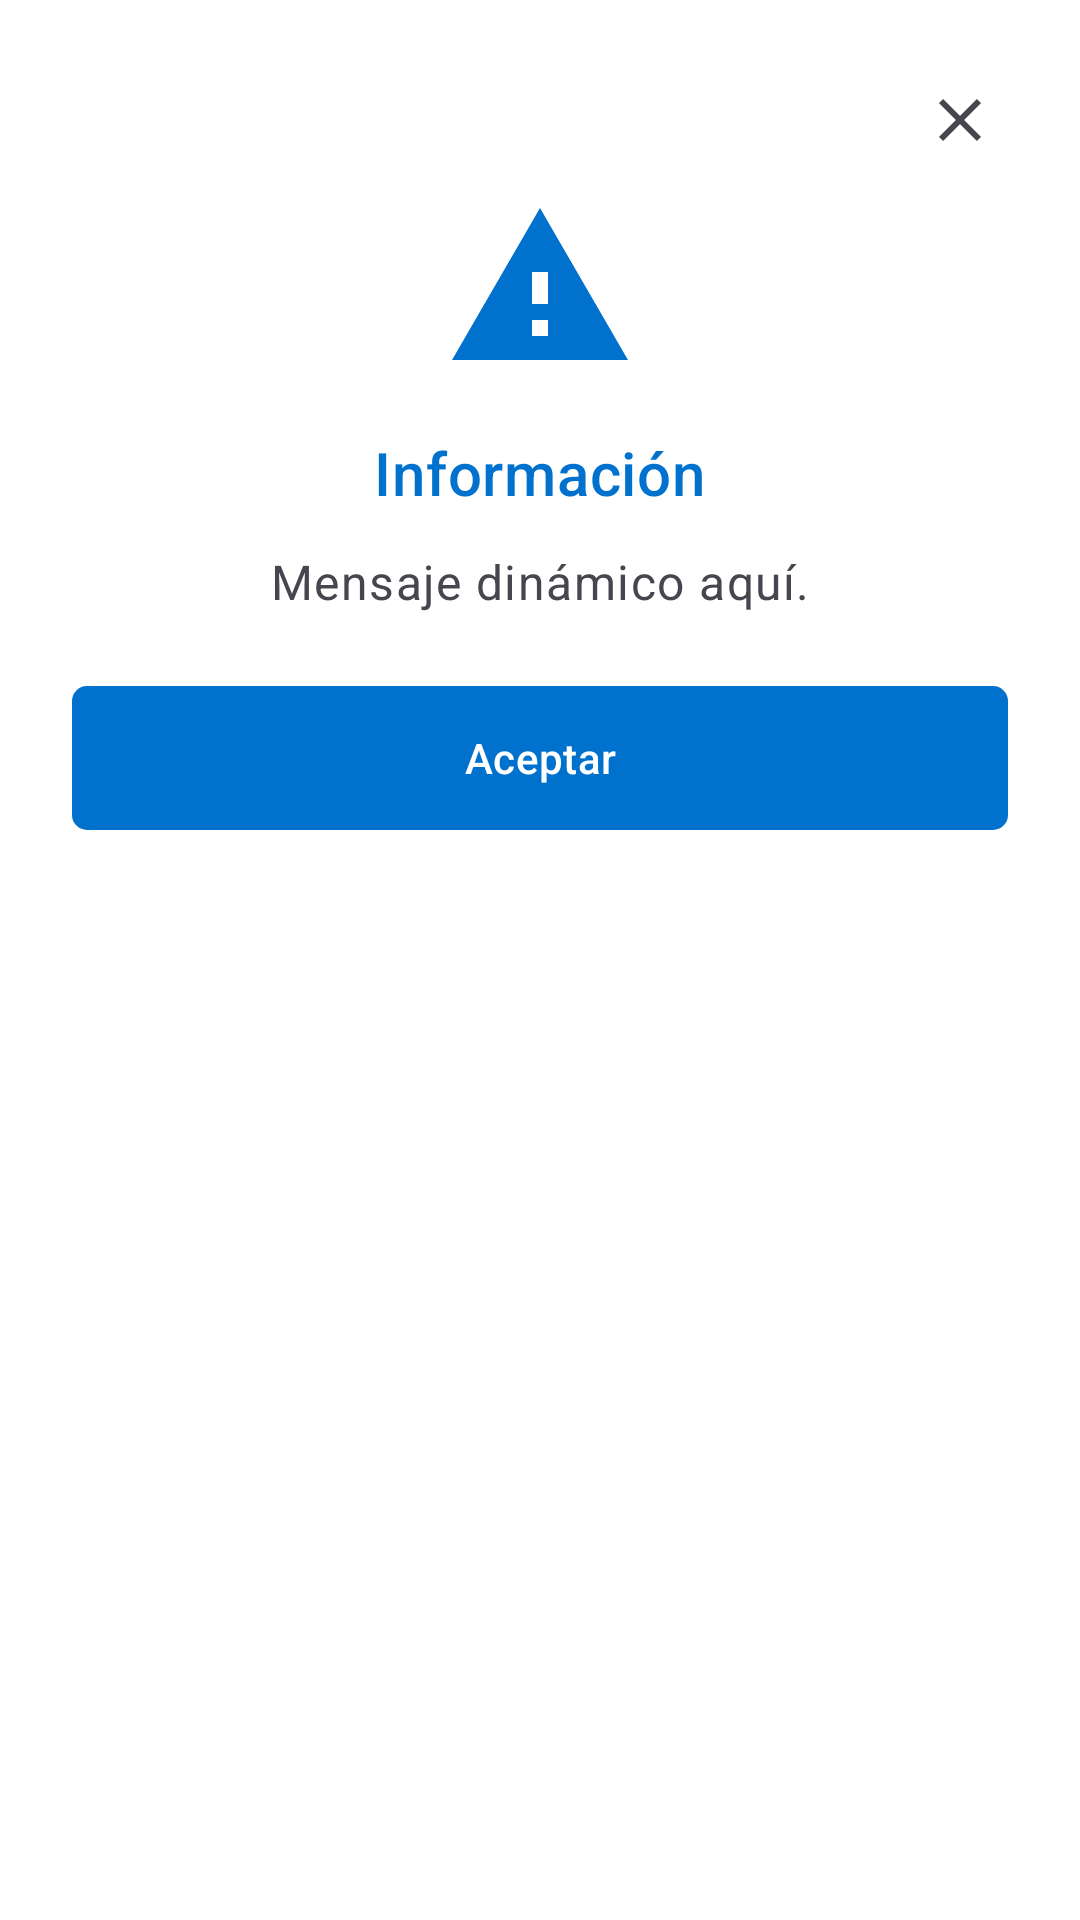

Point at icon controls on the screen. Image size 1080*1920, points as (x,y).
Cerrar: (960,120)
warning themed: (540,284)
